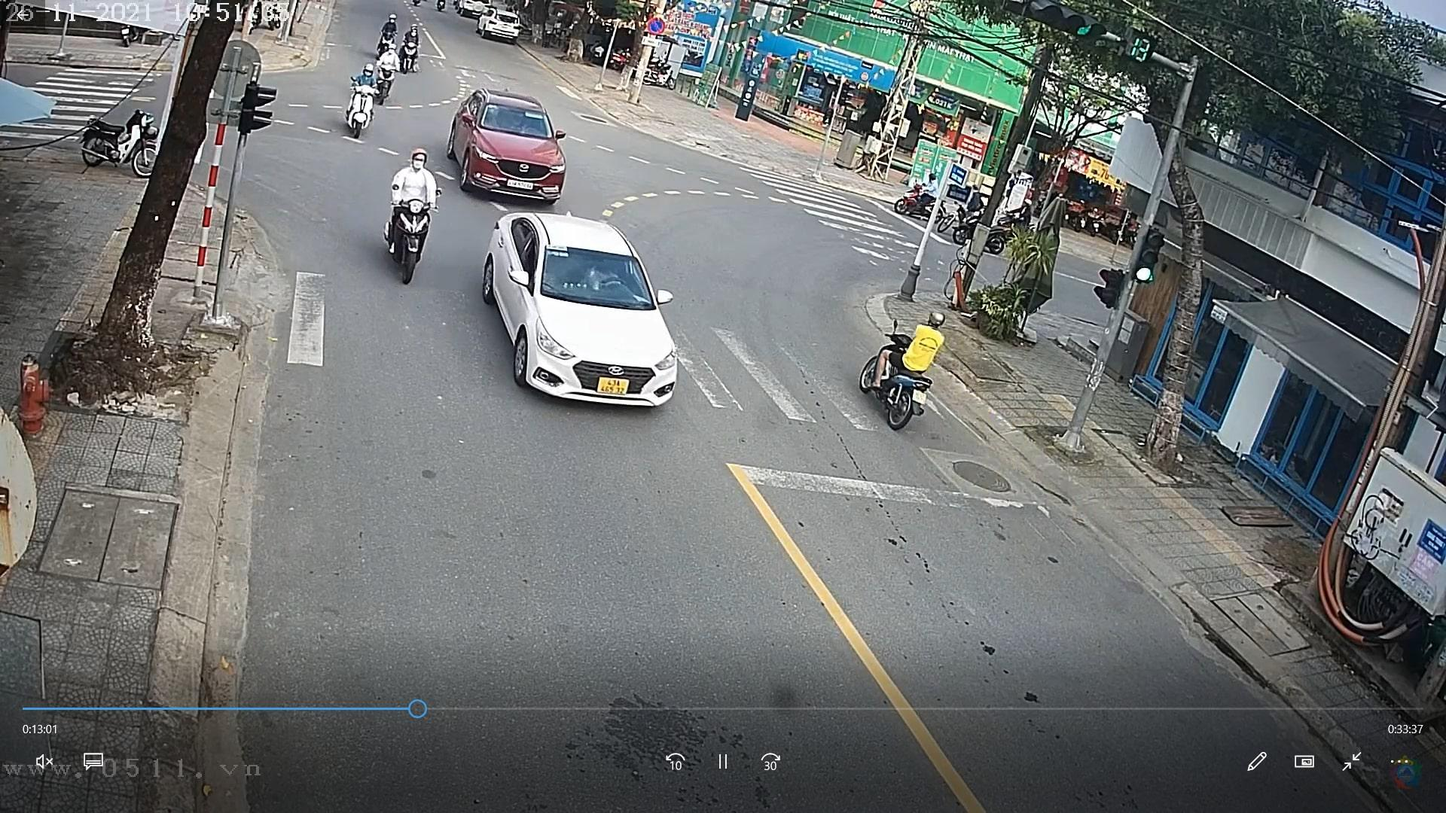car: (477, 209, 681, 409), (449, 91, 568, 207)
motorbike: (859, 328, 936, 437), (381, 172, 444, 288), (343, 74, 376, 139)
